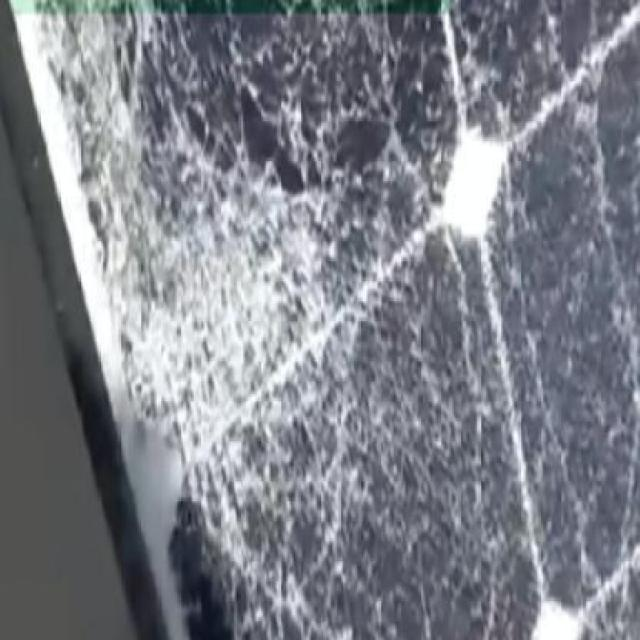cracked: (15, 4, 638, 640)
